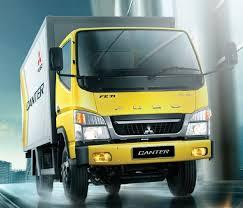truck: (40, 19, 243, 192)
